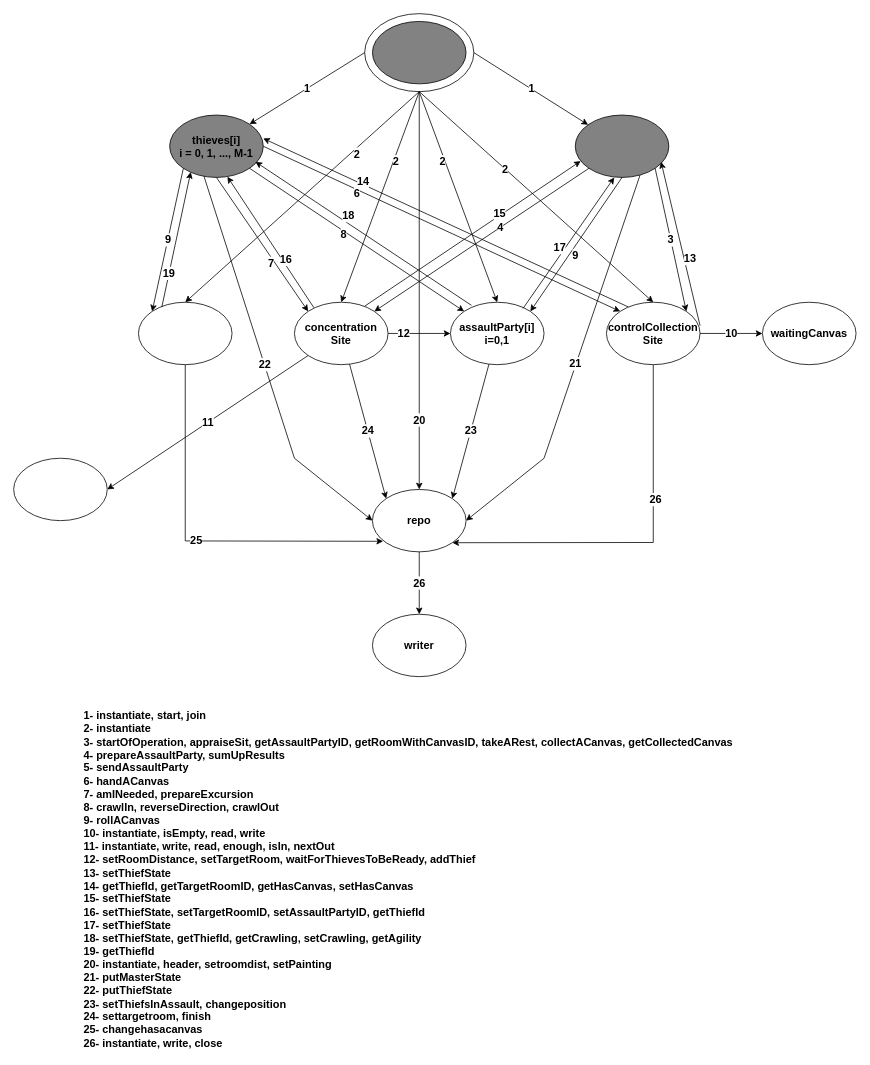
This 870x1065 diagram has some shape labels left out. The shapes that lost their labels are listed below. From the top down, each one's centre as x and y in pixels, then its label:
At point (419, 52): "Heist".
At point (621, 145): "masterThief".
At point (185, 333): "museum".
At point (60, 489): "waitingThieves".
